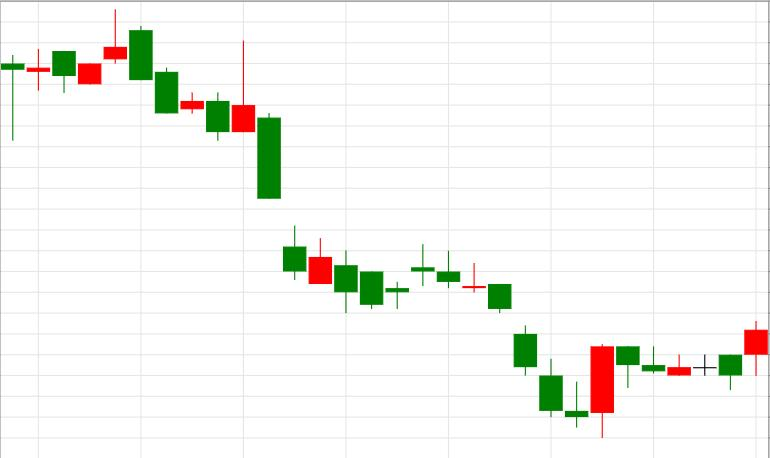inverse_hammer_rise: (104, 9, 255, 141)
morning_star_rise: (411, 245, 614, 439)
